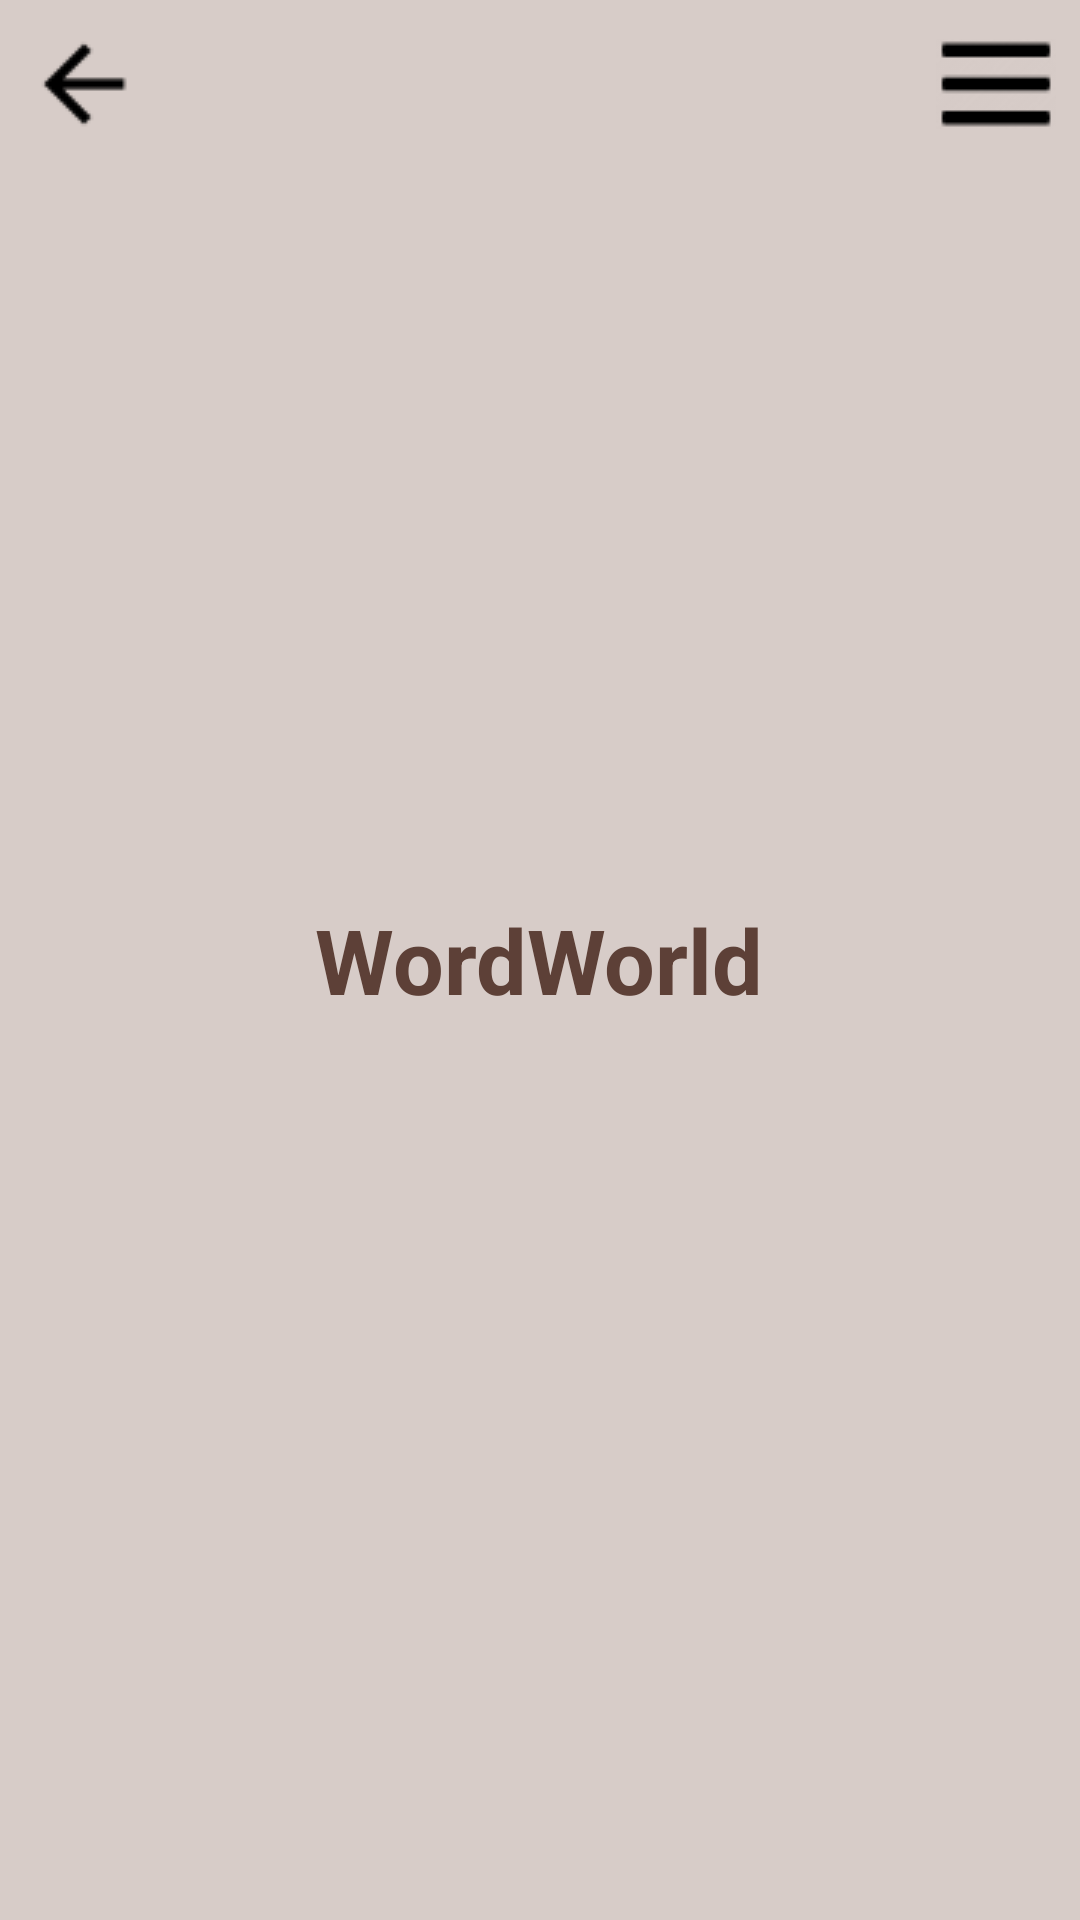

Screen size 1080 × 1920. Icon name, then its center in pixels as point (x, y):
Back: point (85, 84)
Navigation: point (996, 84)
